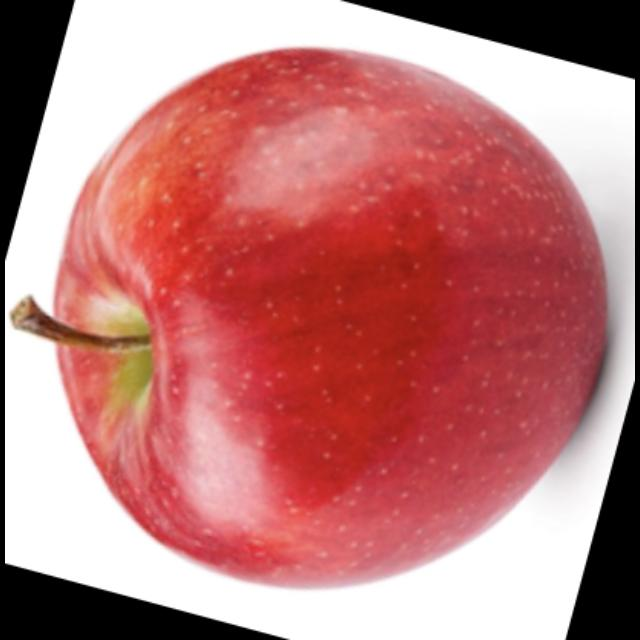Apel Segar: (41, 31, 618, 603)
